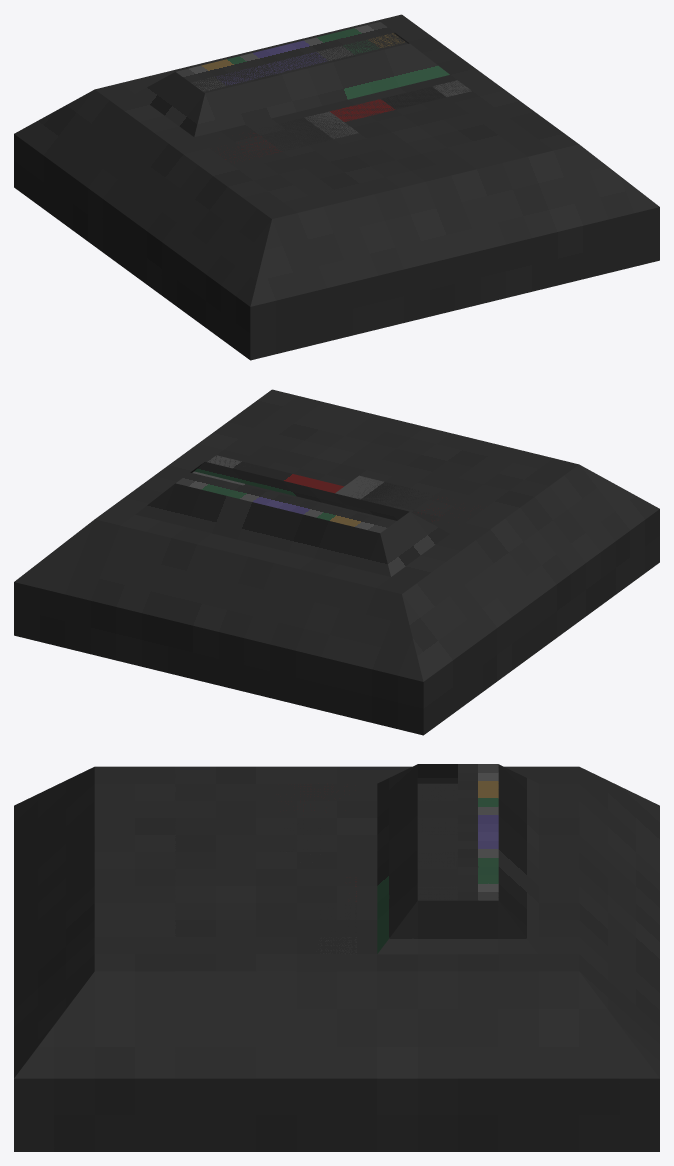
The model's file is siren.obj.
The picture shows the model from 3 angles, top to bottom: view 1: azimuth 30°, elevation 25°; view 2: azimuth 150°, elevation 25°; view 3: azimuth 270°, elevation 25°; orthographic projection. The views are drawn at different scales.
Parts seen in each view (by area): view 1: cube; view 2: cube; view 3: cube.
Boxes of the visible parts, x1=… form: cube: x1=14, y1=14, x2=659, y2=360; cube: x1=14, y1=389, x2=659, y2=735; cube: x1=14, y1=764, x2=659, y2=1151.
Bounding box in the file's own units: 1 × 0.3125 × 1.
